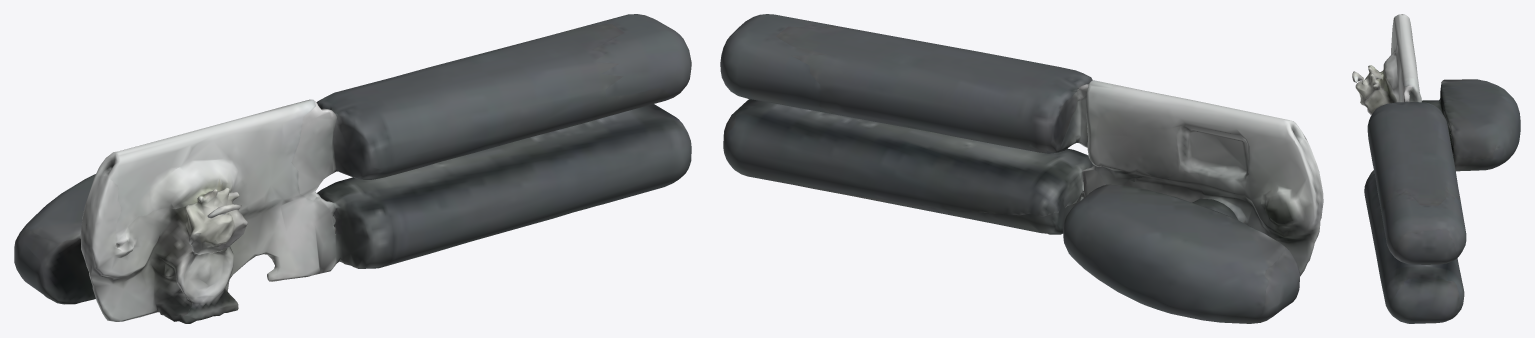
File: Granimals_20_Wooden_ABC_Blocks_Wagon_g2TinmUGGHI-high.glb
3 renders of one model, left to right at view 1: azimuth 30°, elevation 25°; view 2: azimuth 150°, elevation 25°; view 3: azimuth 270°, elevation 25°, orthographic. The views are drawn at different scales.
Parts seen in each view (by area): view 1: Granimals_20_Wooden_ABC_Blocks_Wagon_g2TinmUGGHI; view 2: Granimals_20_Wooden_ABC_Blocks_Wagon_g2TinmUGGHI; view 3: Granimals_20_Wooden_ABC_Blocks_Wagon_g2TinmUGGHI.
Boxes of the visible parts, x1,y1,x2,y2 form: Granimals_20_Wooden_ABC_Blocks_Wagon_g2TinmUGGHI: [14, 14, 691, 323]; Granimals_20_Wooden_ABC_Blocks_Wagon_g2TinmUGGHI: [720, 14, 1323, 323]; Granimals_20_Wooden_ABC_Blocks_Wagon_g2TinmUGGHI: [1352, 14, 1520, 323].
Bounding box in the file's own units: 0.1918 × 0.0505 × 0.0637.
1 material, 1 textured.
